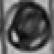correct: (3, 0, 50, 54)
